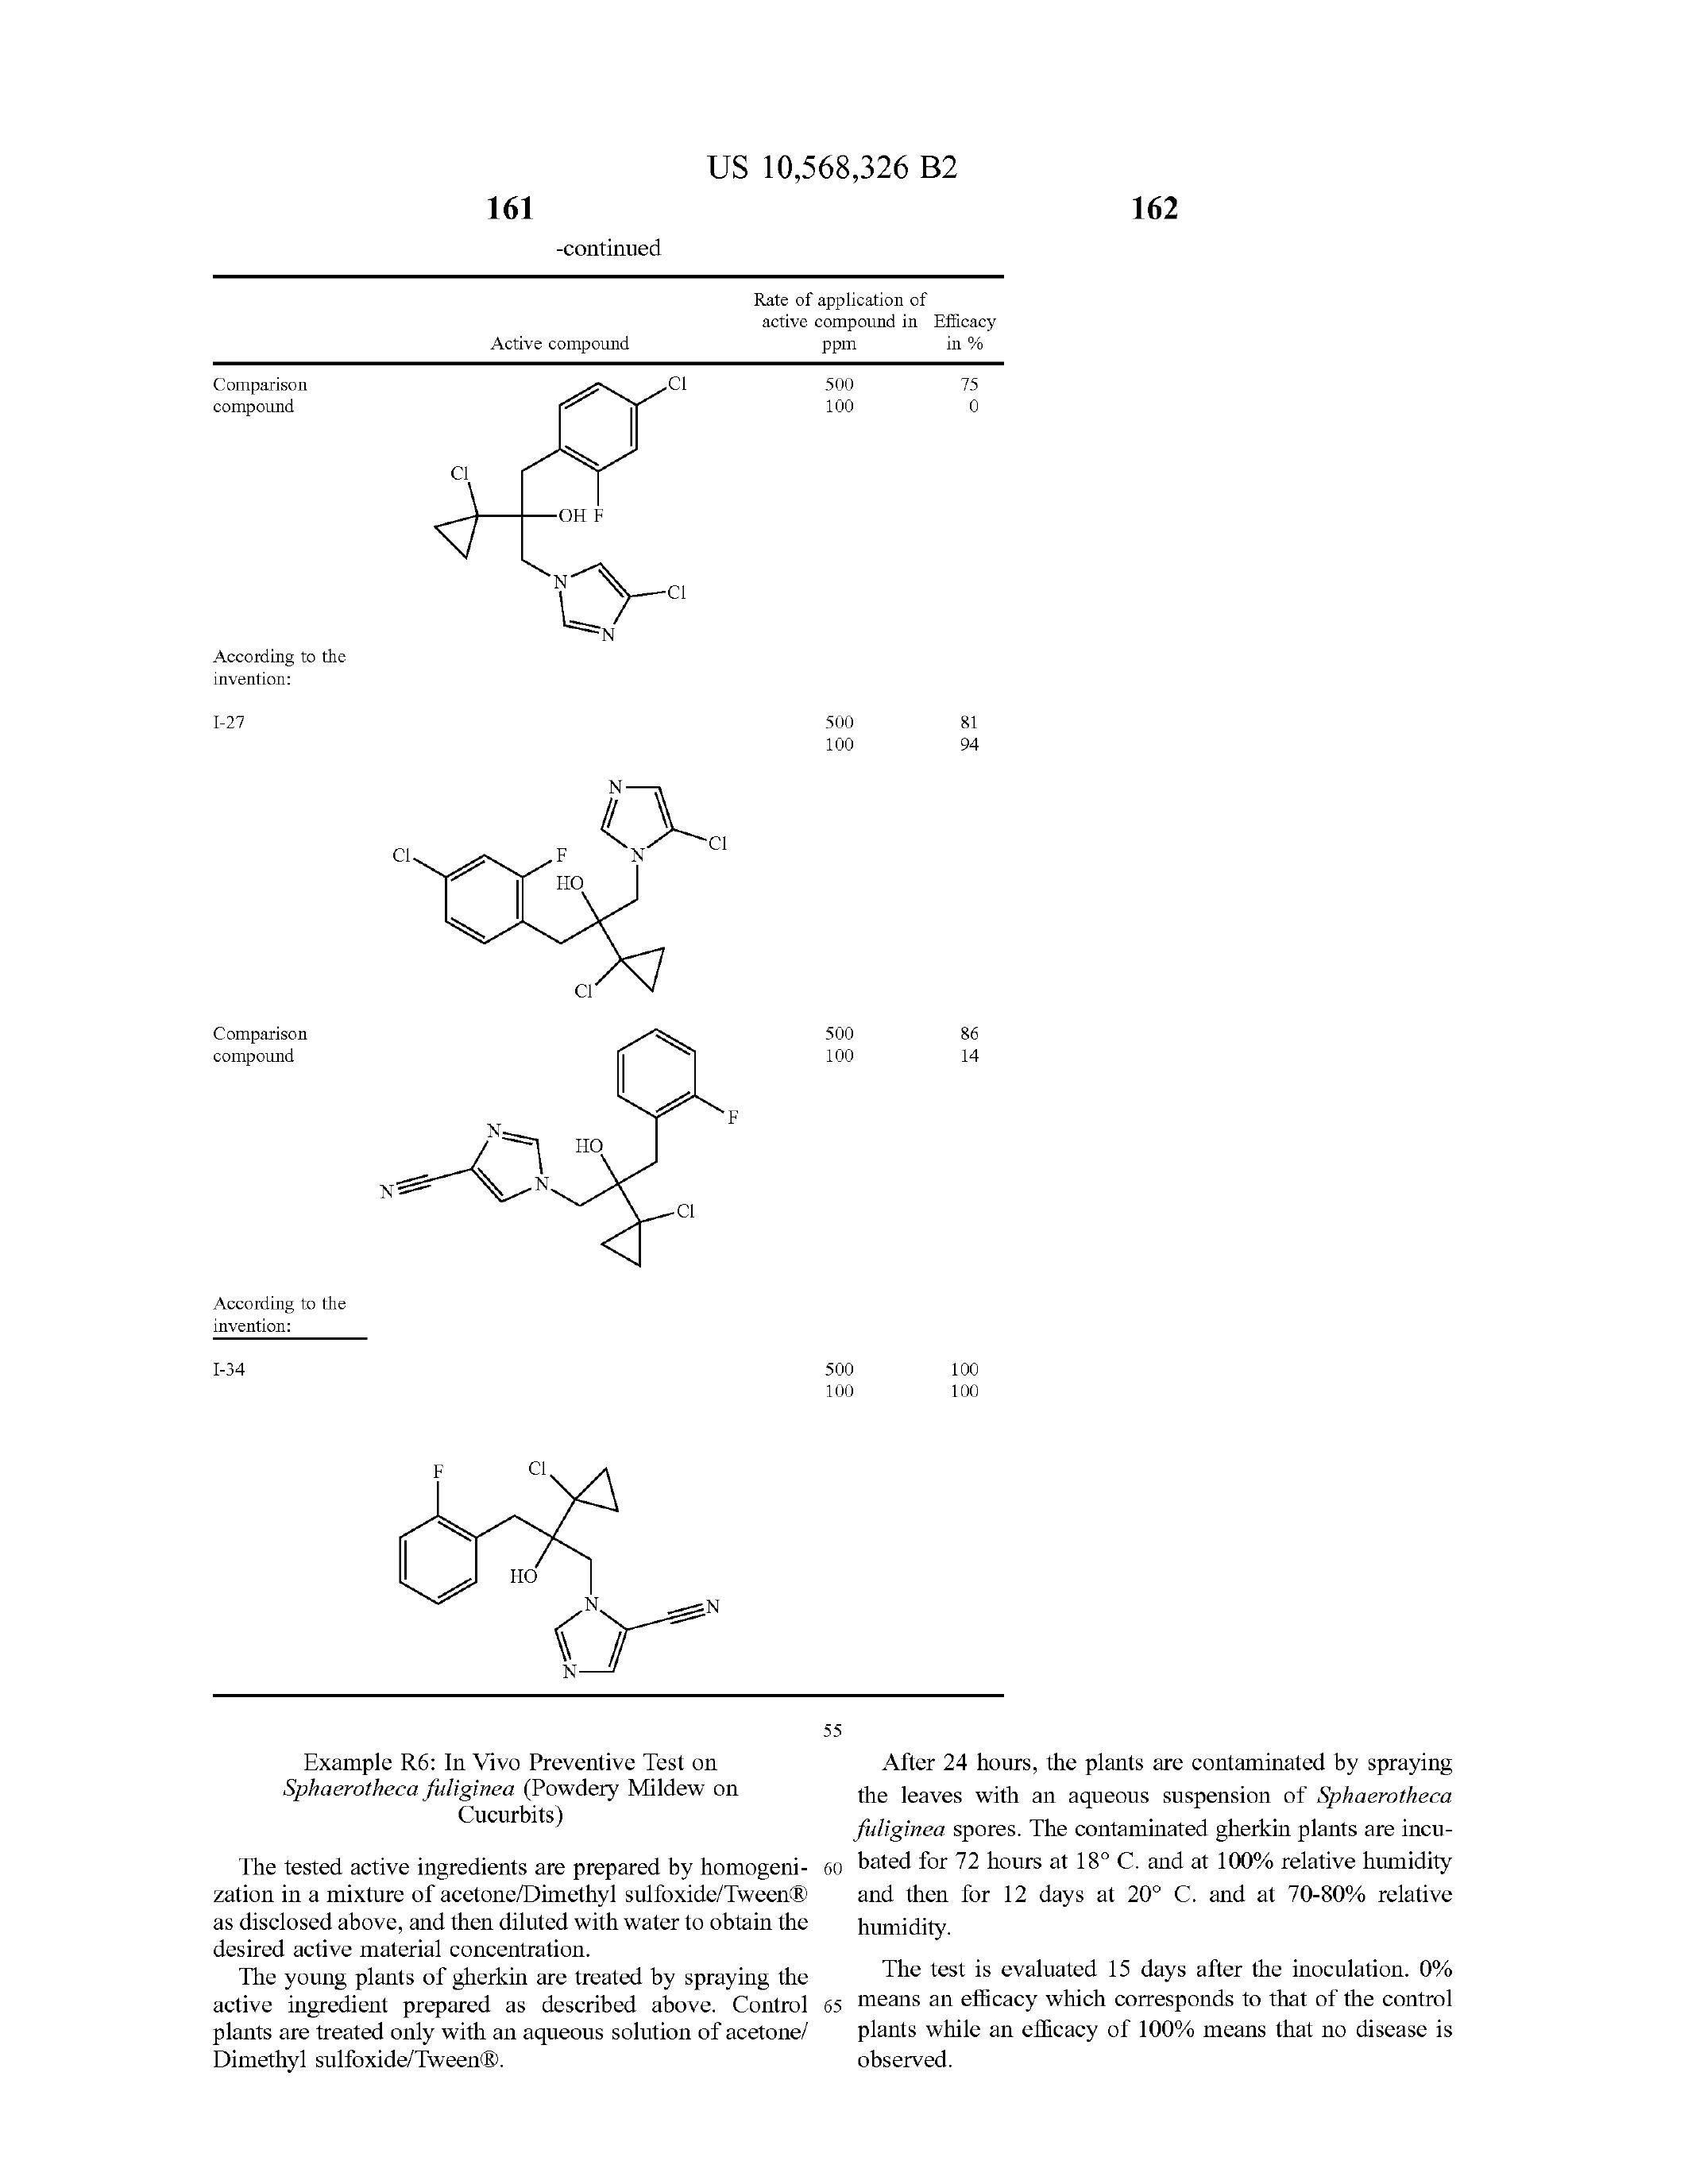relevant-structures: (353, 1021, 801, 1306), (356, 1408, 764, 1681), (387, 383, 754, 684), (387, 757, 780, 1009)
